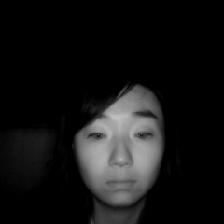normal: (58, 68, 175, 207)
